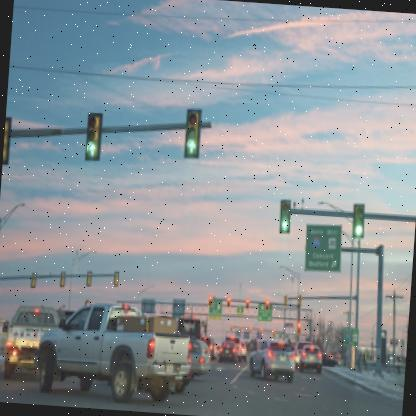trafficlight: (180, 106, 202, 160), (82, 108, 104, 160), (274, 193, 292, 232), (350, 196, 365, 234), (2, 114, 12, 168)
